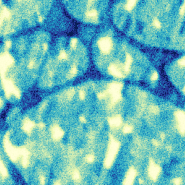hole_filled: (0, 74, 185, 185), (0, 29, 94, 109), (89, 25, 168, 93), (111, 5, 184, 55), (0, 5, 60, 41), (61, 5, 110, 27)
